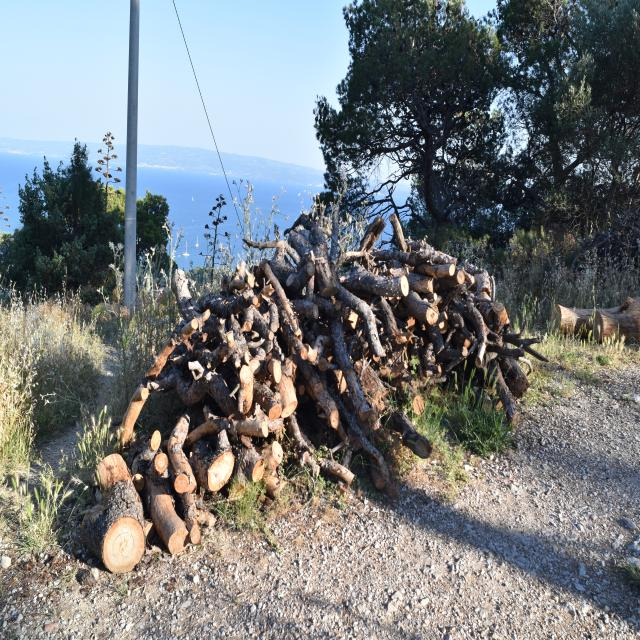restos de madeira: (285, 329, 354, 437), (79, 478, 146, 574), (291, 215, 341, 306), (547, 299, 640, 346), (336, 281, 389, 358), (144, 476, 188, 554), (456, 298, 494, 377), (344, 428, 390, 491), (250, 243, 308, 290), (167, 416, 199, 497), (282, 410, 320, 476), (347, 267, 410, 304), (190, 435, 230, 493), (352, 359, 392, 414), (384, 411, 430, 458), (200, 366, 238, 421), (172, 268, 206, 328), (373, 267, 436, 299), (219, 326, 260, 374), (118, 385, 149, 448), (492, 348, 531, 398), (181, 490, 214, 544), (315, 451, 360, 488), (371, 294, 403, 345), (94, 452, 133, 493), (488, 362, 514, 418), (145, 336, 180, 377), (244, 233, 308, 254), (375, 248, 435, 270), (172, 372, 208, 408), (216, 262, 250, 298), (184, 417, 222, 448), (237, 444, 266, 484), (405, 292, 438, 327), (185, 336, 217, 371), (385, 347, 413, 385), (437, 262, 466, 298), (276, 371, 298, 417), (259, 437, 286, 473), (232, 415, 272, 439), (252, 381, 279, 414), (482, 341, 528, 359), (436, 353, 467, 379), (388, 213, 408, 251), (328, 208, 341, 261), (427, 319, 445, 356), (291, 300, 320, 322), (487, 302, 510, 328), (474, 337, 488, 368), (615, 296, 639, 313), (268, 302, 280, 335), (498, 330, 526, 343), (340, 250, 368, 262), (154, 452, 169, 474), (516, 358, 533, 377), (188, 360, 204, 379), (282, 358, 294, 378), (413, 395, 425, 415), (488, 274, 496, 302), (347, 310, 359, 328), (226, 331, 236, 348), (246, 272, 255, 289), (140, 387, 150, 401), (460, 344, 469, 358), (463, 336, 472, 349)
